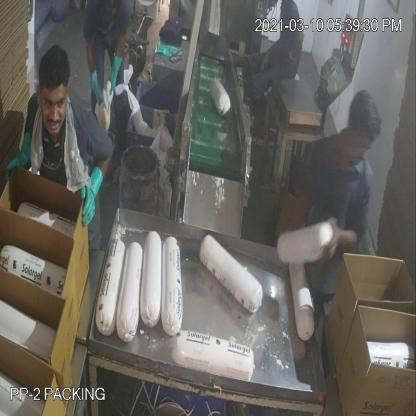glove: (274, 168, 314, 246), (0, 124, 45, 187), (76, 152, 106, 234), (89, 62, 105, 114), (107, 48, 122, 103)
no_glove: (321, 215, 365, 262)
